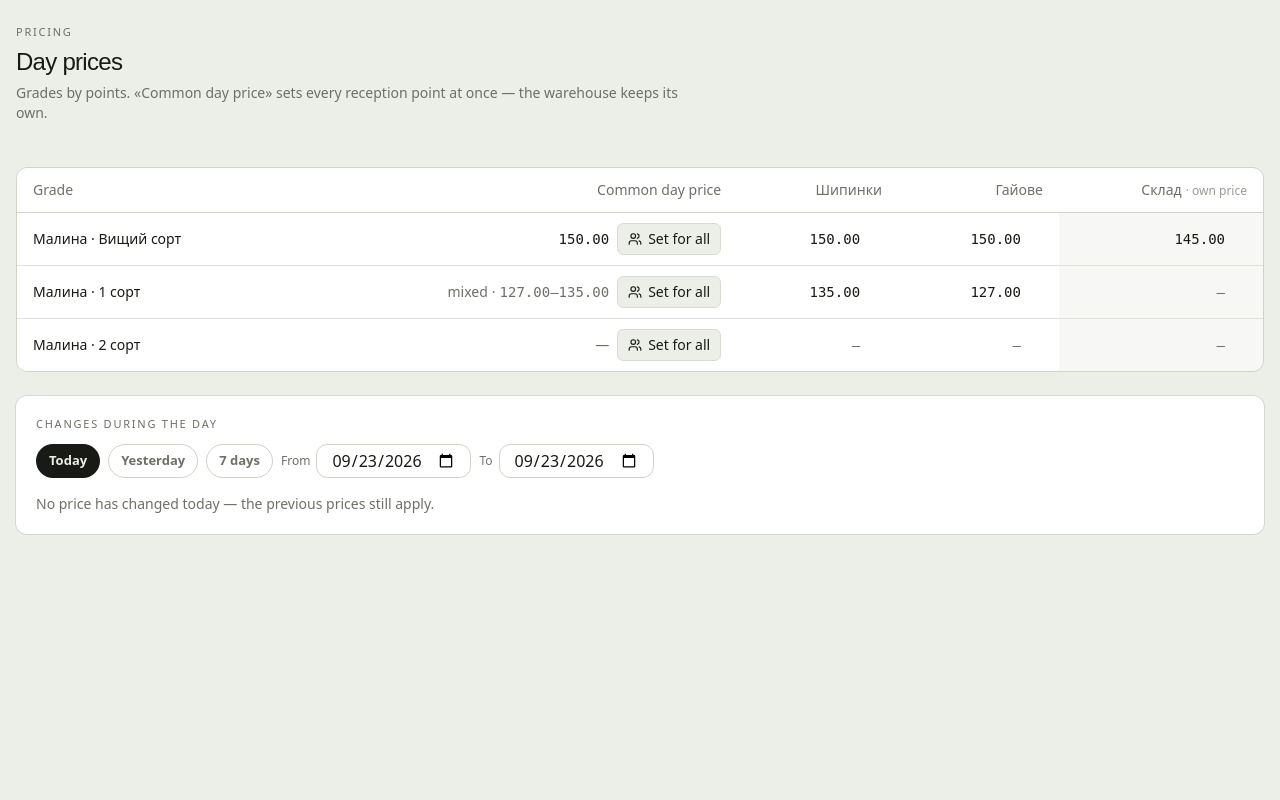
Test: PricesPage — the sheet › the money fields (#72) › refuses a half-typed «12.» with the shared message and sends nothing
Click the 2nd button "150.00" at point(1005, 238), box [966,228,1043,248]
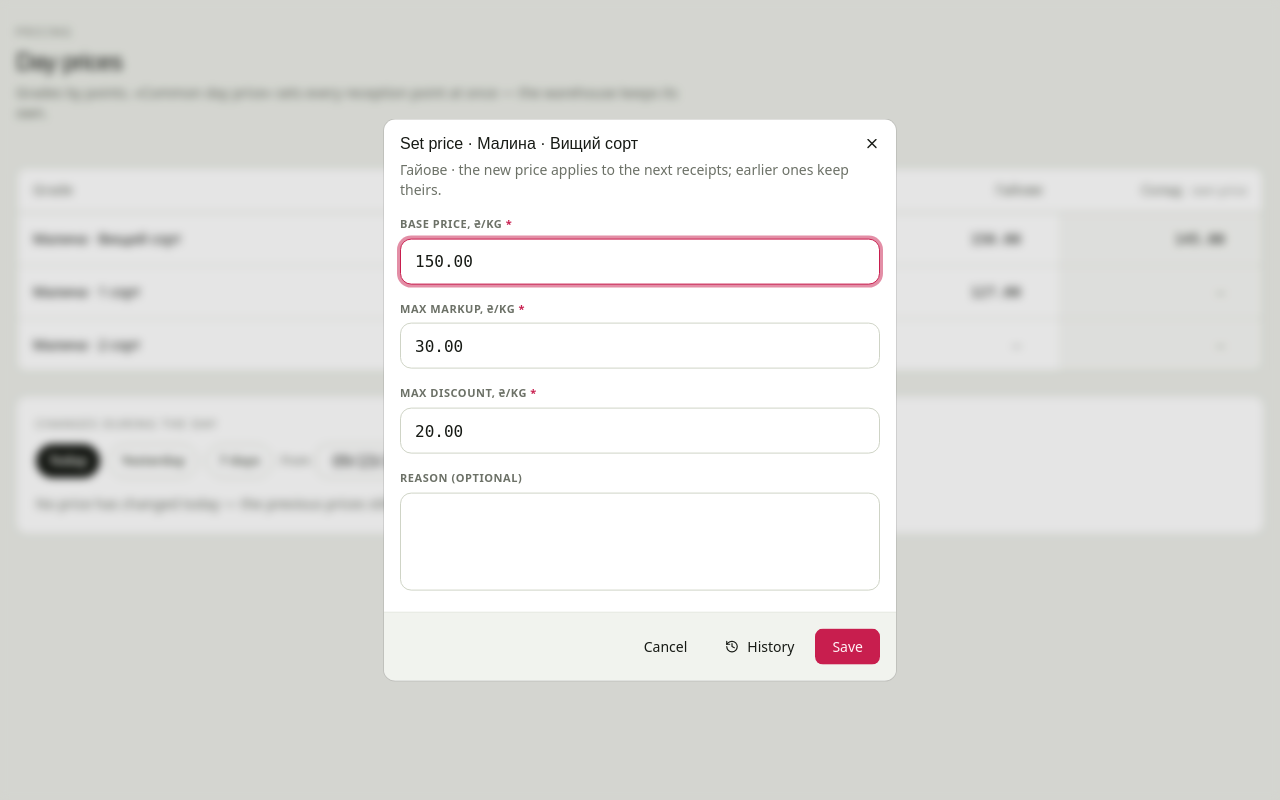
Replace the text in the field labelled "Max discount, ₴/kg" with "12." at point(640, 431), box [400,408,880,454]
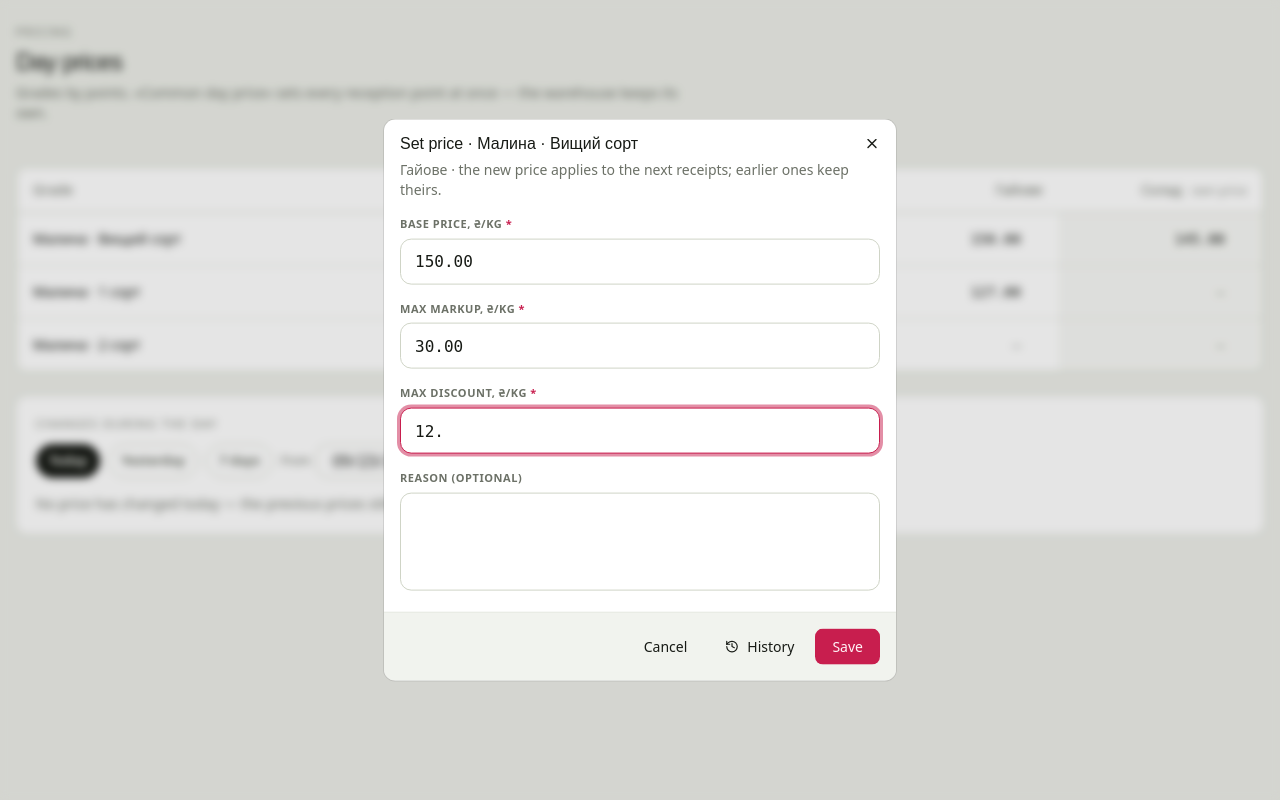
Click the button "Save" at point(848, 646), box [815,628,880,664]
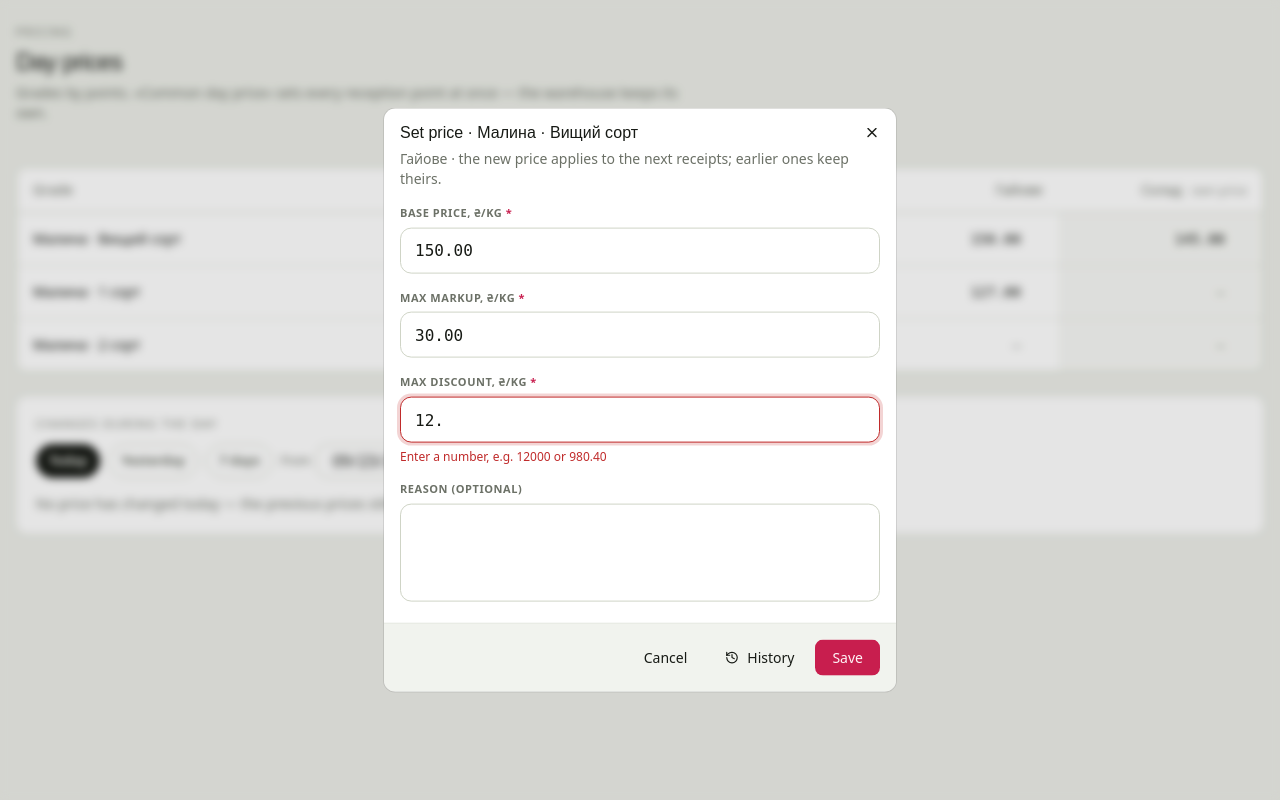
Now the text "Enter a number, e.g. 12000 or 980.40" is shown, box [400,448,607,465]
